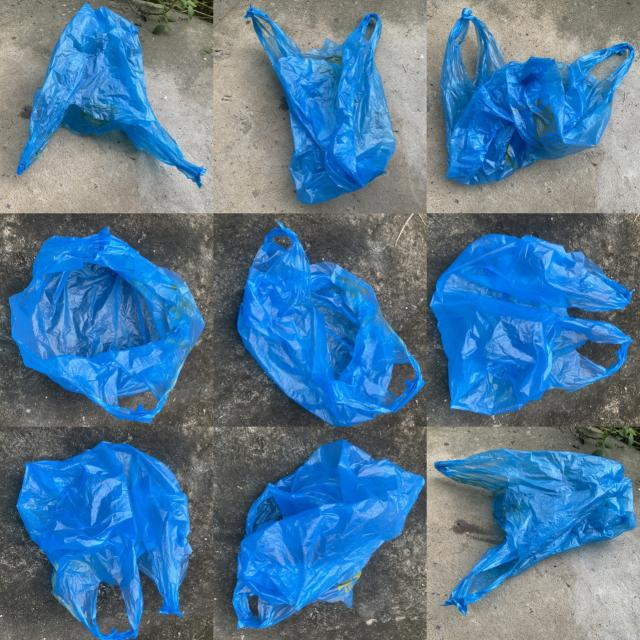Single-layer Plastic: (238, 222, 425, 426), (10, 228, 204, 422), (232, 440, 424, 629), (431, 235, 631, 415), (16, 4, 205, 187), (18, 441, 191, 640), (441, 9, 635, 184), (435, 449, 636, 614), (245, 6, 395, 204)
